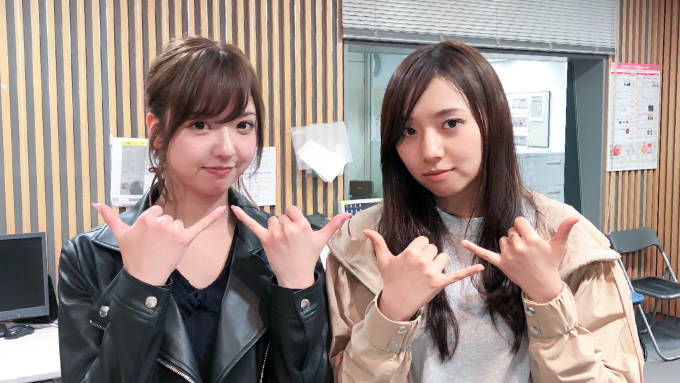face: (144, 91, 259, 199), (396, 76, 484, 197)
hand: (90, 201, 228, 282), (362, 227, 485, 310), (464, 213, 580, 298), (229, 205, 352, 280)
